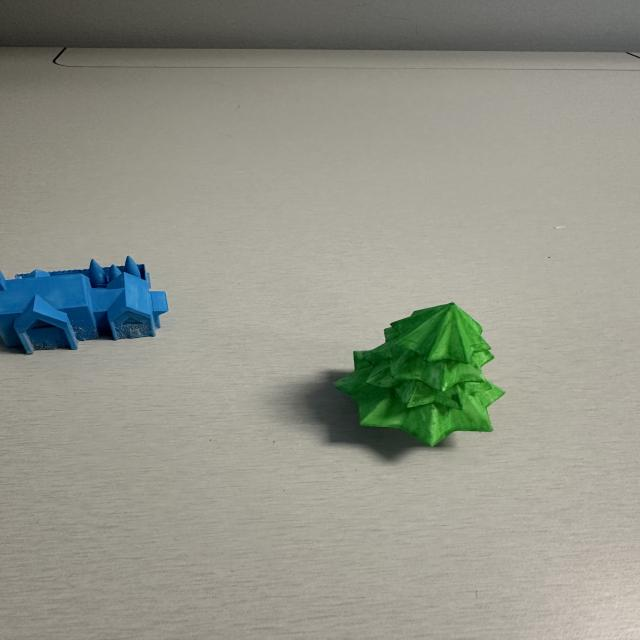house: (1, 254, 170, 354)
tree: (332, 300, 506, 448)
